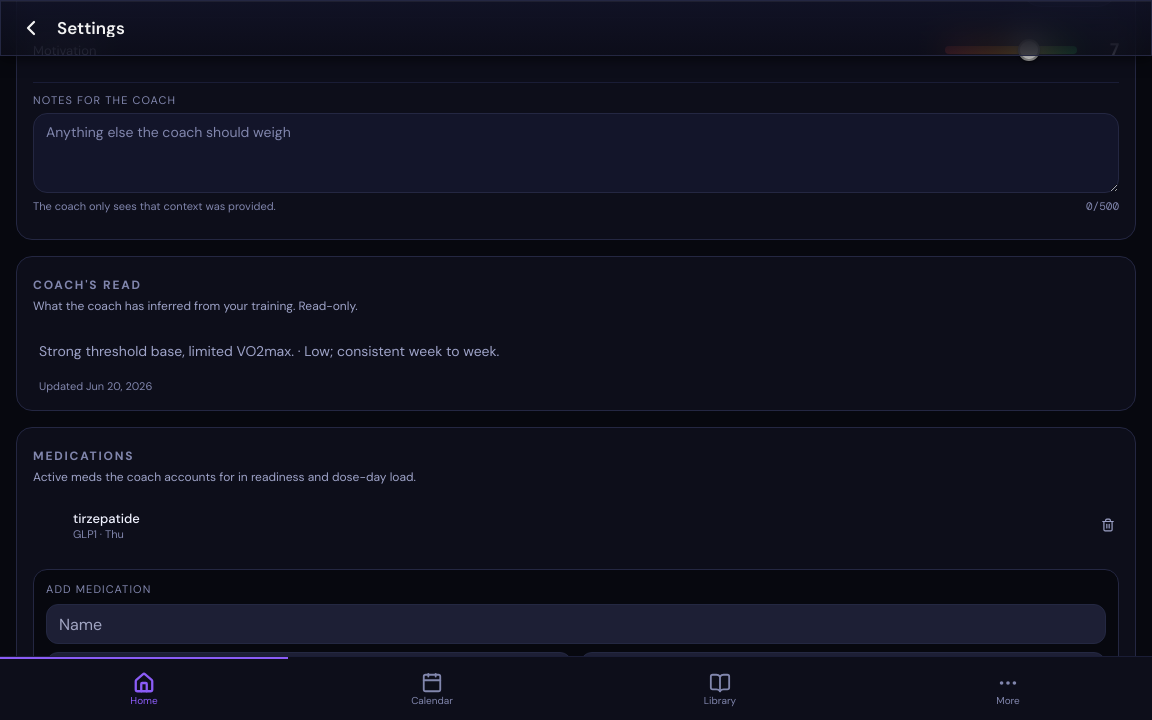
it: Settings › renders the read-only coach read with both derived sections
(page scrolled)
Click the button with aria-label "Coach read" at point(269, 351), box [33,326,1119,394]
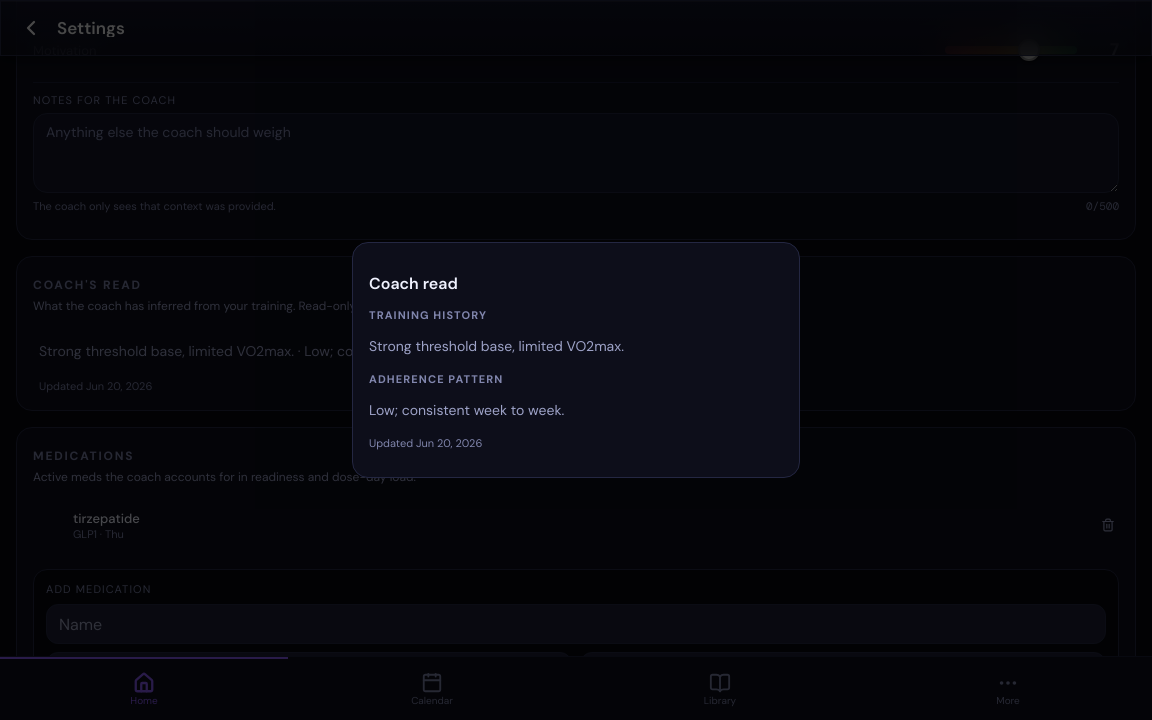
Expected: the heading "Training history" is shown, [369,308,487,322]
Expected: the heading "Adherence pattern" is shown, [369,372,504,386]
